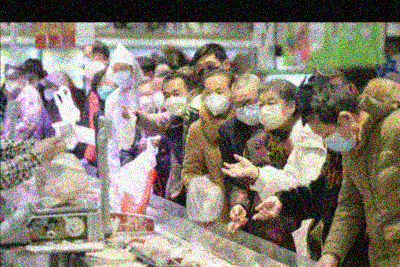with_mask: (316, 127, 360, 156), (258, 97, 287, 132), (232, 96, 261, 127), (204, 86, 232, 115), (163, 88, 188, 116), (112, 65, 134, 89), (94, 78, 116, 100), (152, 84, 166, 111), (138, 89, 152, 112), (3, 76, 18, 94), (42, 86, 55, 101)
